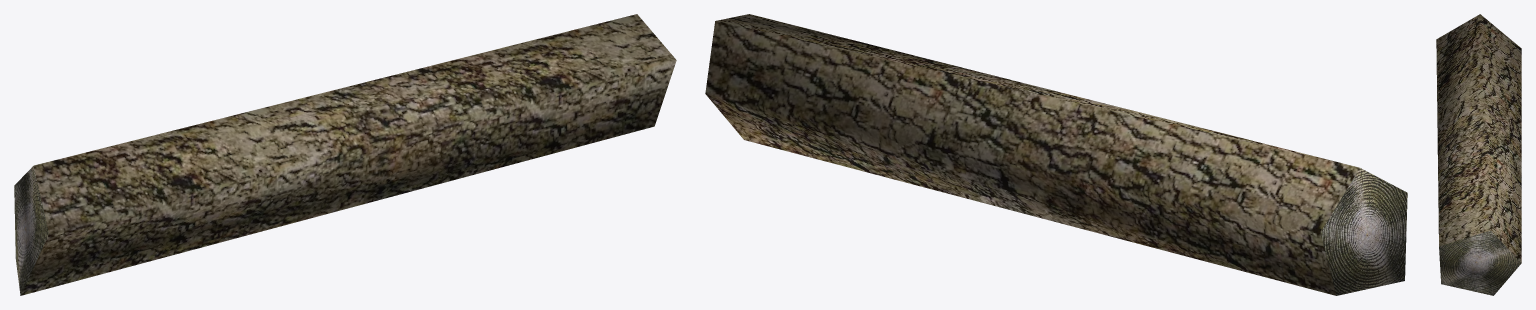
The model's file is NC_LOB_LOG2.glb.
3 renders of one model, left to right at view 1: azimuth 30°, elevation 25°; view 2: azimuth 150°, elevation 25°; view 3: azimuth 270°, elevation 25°, orthographic. The views are drawn at different scales.
Visible parts, largest first — view 1: Mesh; view 2: Mesh; view 3: Mesh.
Part boxes in pixels (x1,y1,x2,y2): Mesh: (14, 14, 676, 295); Mesh: (705, 14, 1407, 295); Mesh: (1436, 14, 1521, 295).
Bounding box in the file's own units: 1.77 × 0.296 × 0.2823.
Materials: 2 (2 with a texture image).
